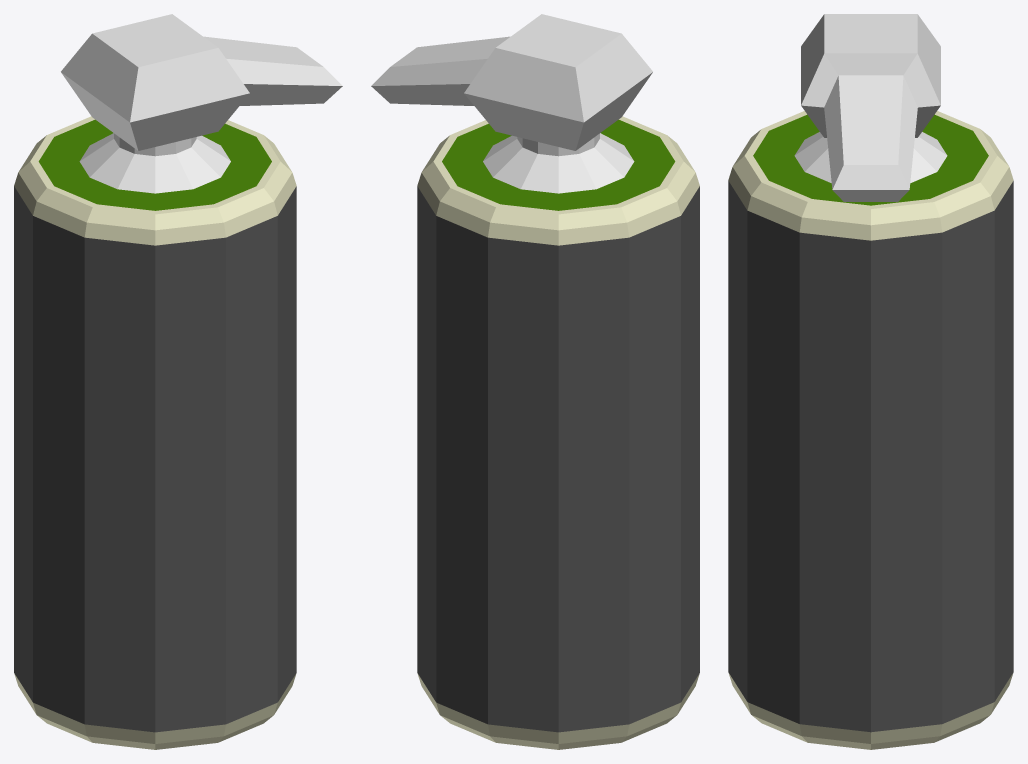
The model's file is Г7 Граната дымовая.fbx.
3 views of the same model, side by side, from view 1: azimuth 30°, elevation 25°; view 2: azimuth 150°, elevation 25°; view 3: azimuth 270°, elevation 25° (orthographic).
Parts seen in each view (by area): view 1: Cylinder, Cube; view 2: Cylinder, Cube; view 3: Cylinder, Cube.
Boxes of the visible parts, x1,y1,x2,y2 form: Cylinder: (14, 116, 296, 749); Cube: (61, 14, 342, 150); Cylinder: (417, 116, 699, 749); Cube: (371, 14, 652, 150); Cylinder: (728, 111, 1013, 749); Cube: (801, 14, 940, 201).
Size of the model in its own units: 143 by 317 by 120.
